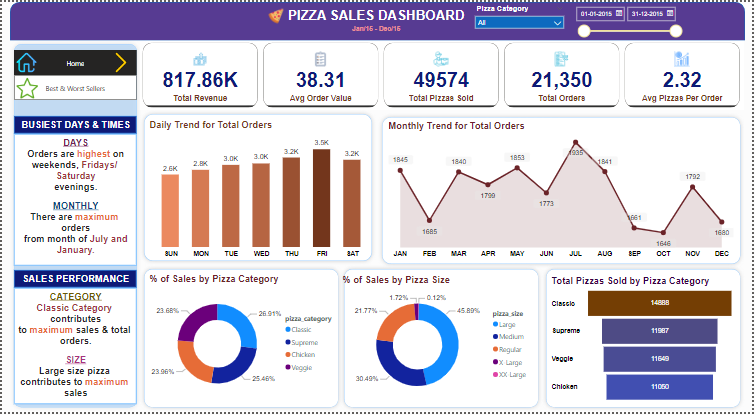

This screenshot's page, from the dashboard's own definition file:
{"tool":"powerbi","page":{"name":"Home","canvas":[1500,820],"ordinal":0},"visuals":[{"type":"shape","box":[15,76.7,261.7,743.3],"z":0},{"type":"cardVisual","fields":{"Data":["pizza_sales.Total Revenue","pizza_sales.Avg Order Value","pizza_sales.Total Pizzas Sold","pizza_sales.Total Orders","pizza_sales.Avg Pizzas Per Order"]},"box":[276.7,76.7,1208.3,140],"z":1000},{"type":"shape","box":[15,0,1470,76.7],"z":2000},{"type":"textbox","box":[547.1,5.7,401.4,42.9],"z":3000},{"type":"textbox","box":[685.7,38.6,124.3,30],"z":4000},{"type":"image","box":[528.6,1.4,40,51.4],"z":5000},{"type":"shape","box":[276.7,216.7,471.7,310],"z":6000},{"type":"columnChart","title":"Daily Trend for Total Orders","fields":{"Category":["pizza_sales.Order Day"],"Y":["pizza_sales.Total Orders"]},"box":[290,233.3,458.3,285],"z":7000},{"type":"shape","box":[751.7,221.7,733.3,310],"z":8000},{"type":"areaChart","title":"Monthly Trend for Total Orders","fields":{"Category":["pizza_sales.Order Month"],"Y":["pizza_sales.Total Orders"]},"box":[768.3,235,700,283.3],"z":9000},{"type":"shape","box":[276.7,526.7,405,293.3],"z":10000},{"type":"shape","box":[675,526.7,405,293.3],"z":11000},{"type":"shape","box":[1080,526.7,405,293.3],"z":12000},{"type":"donutChart","title":"% of Sales by Pizza Category","fields":{"Category":["pizza_sales.pizza_category"],"Y":["pizza_sales.Total Revenue"]},"box":[290,541.7,390,261.7],"z":13000},{"type":"donutChart","title":"% of Sales by Pizza Size","fields":{"Y":["pizza_sales.Total Revenue"],"Category":["pizza_sales.pizza_size"]},"box":[675,543.3,390,261.7],"z":14000},{"type":"funnel","title":"Total Pizzas Sold by Pizza Category","fields":{"Category":["pizza_sales.pizza_category"],"Y":["pizza_sales.Total Pizzas Sold"]},"box":[1093.3,545,375,260],"z":15000},{"type":"textbox","box":[23.3,228.3,245,35],"z":16000},{"type":"textbox","box":[23.3,263.3,245,263.3],"z":17000},{"type":"textbox","box":[23.3,536.7,245,35],"z":18000},{"type":"textbox","box":[23.3,571.7,245,231.7],"z":19000},{"type":"slicer","fields":{"Values":["pizza_sales.pizza_category"]},"box":[936.2,0,197.5,65],"z":20000},{"type":"slicer","fields":{"Values":["pizza_sales.order_date"]},"box":[1135,0,233.3,76.7],"z":21000},{"type":"pageNavigator","box":[23.3,96.7,245,50],"z":22000},{"type":"pageNavigator","box":[23.3,146.7,245,50],"z":23000},{"type":"image","box":[205,96.7,63.3,50],"z":24000},{"type":"image","box":[16.7,96.7,65,50],"z":25000},{"type":"image","box":[20,145,60,53.3],"z":26000}]}

Visuals, with their boxes in screenshot pixels (x1, y1, x2, y2), scaled from the page's 1500x820 canvas onto the 755x415 screenshot:
shape: {"x1": 8, "y1": 39, "x2": 139, "y2": 414}
cardVisual - pizza_sales.Total Revenue x pizza_sales.Avg Order Value: {"x1": 139, "y1": 39, "x2": 747, "y2": 110}
shape: {"x1": 8, "y1": 0, "x2": 747, "y2": 39}
textbox: {"x1": 275, "y1": 3, "x2": 477, "y2": 25}
textbox: {"x1": 345, "y1": 20, "x2": 408, "y2": 35}
image: {"x1": 266, "y1": 1, "x2": 286, "y2": 27}
shape: {"x1": 139, "y1": 110, "x2": 377, "y2": 267}
"Daily Trend for Total Orders" columnChart: {"x1": 146, "y1": 118, "x2": 377, "y2": 262}
shape: {"x1": 378, "y1": 112, "x2": 747, "y2": 269}
"Monthly Trend for Total Orders" areaChart: {"x1": 387, "y1": 119, "x2": 739, "y2": 262}
shape: {"x1": 139, "y1": 267, "x2": 343, "y2": 414}
shape: {"x1": 340, "y1": 267, "x2": 544, "y2": 414}
shape: {"x1": 544, "y1": 267, "x2": 747, "y2": 414}
"% of Sales by Pizza Category" donutChart: {"x1": 146, "y1": 274, "x2": 342, "y2": 407}
"% of Sales by Pizza Size" donutChart: {"x1": 340, "y1": 275, "x2": 536, "y2": 407}
"Total Pizzas Sold by Pizza Category" funnel: {"x1": 550, "y1": 276, "x2": 739, "y2": 407}
textbox: {"x1": 12, "y1": 116, "x2": 135, "y2": 133}
textbox: {"x1": 12, "y1": 133, "x2": 135, "y2": 267}
textbox: {"x1": 12, "y1": 272, "x2": 135, "y2": 289}
textbox: {"x1": 12, "y1": 289, "x2": 135, "y2": 407}
slicer - pizza_sales.pizza_category: {"x1": 471, "y1": 0, "x2": 571, "y2": 33}
slicer - pizza_sales.order_date: {"x1": 571, "y1": 0, "x2": 689, "y2": 39}
pageNavigator: {"x1": 12, "y1": 49, "x2": 135, "y2": 74}
pageNavigator: {"x1": 12, "y1": 74, "x2": 135, "y2": 100}
image: {"x1": 103, "y1": 49, "x2": 135, "y2": 74}
image: {"x1": 8, "y1": 49, "x2": 41, "y2": 74}
image: {"x1": 10, "y1": 73, "x2": 40, "y2": 100}
